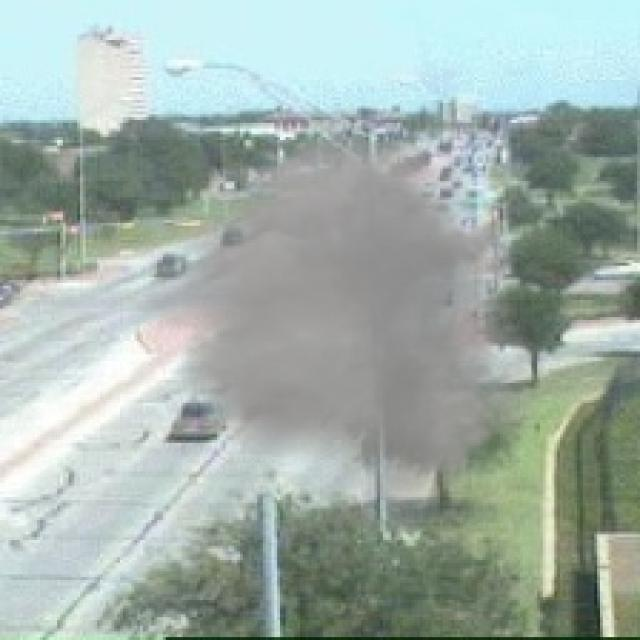smoke: (126, 126, 551, 540)
